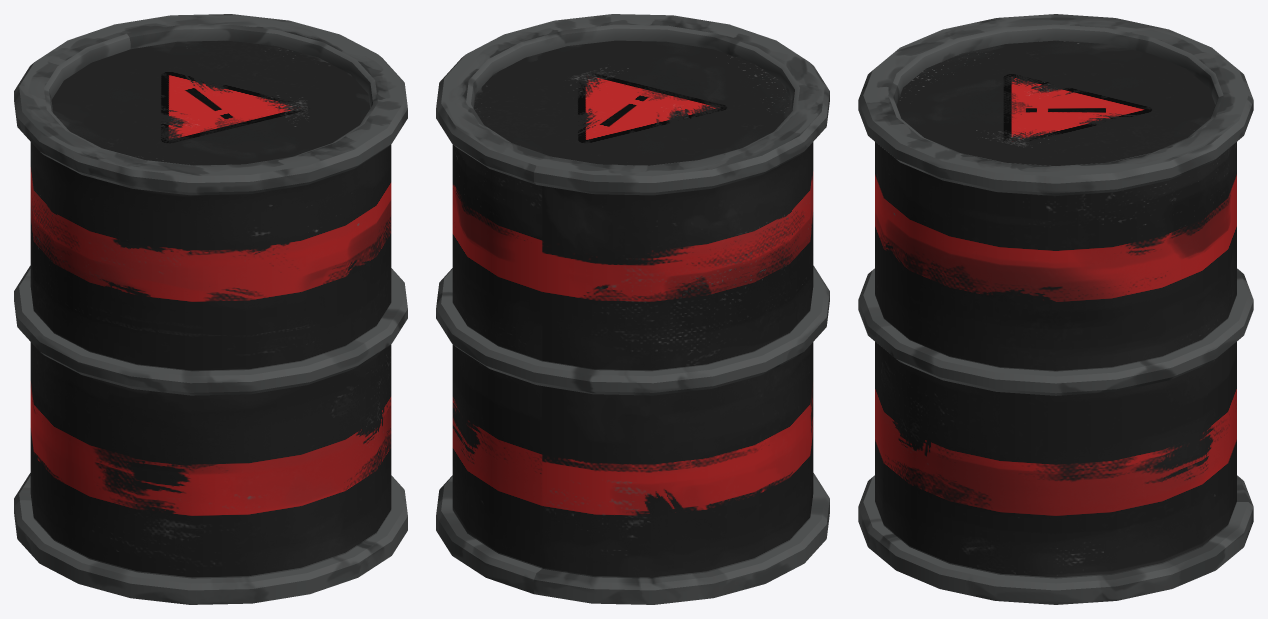
File: Baril.fbx
The picture shows the model from 3 angles, left to right: view 1: azimuth 30°, elevation 25°; view 2: azimuth 150°, elevation 25°; view 3: azimuth 270°, elevation 25°; orthographic projection.
Parts seen in each view (by area): view 1: pCylinder7; view 2: pCylinder7; view 3: pCylinder7.
Boxes of the visible parts, bbox=[...] form: pCylinder7: bbox=[14, 14, 407, 604]; pCylinder7: bbox=[436, 14, 829, 604]; pCylinder7: bbox=[858, 14, 1253, 604].
Size of the model in its own units: 0.9432 by 1.12 by 0.9432.
